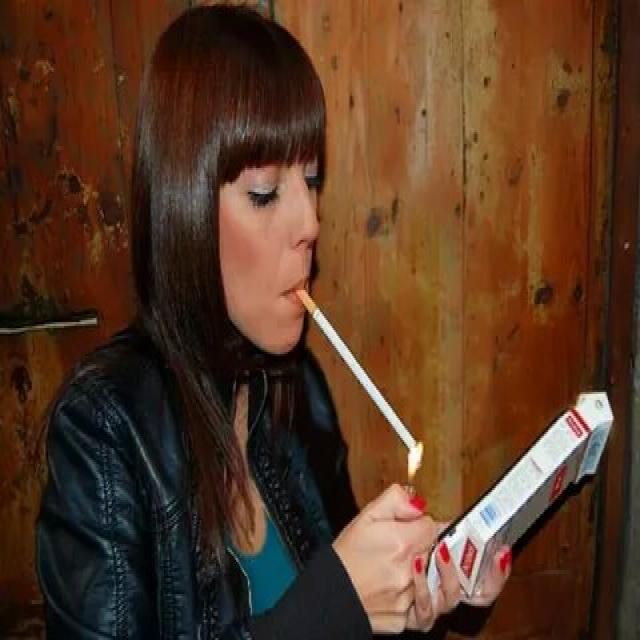smoke: (297, 282, 423, 458)
